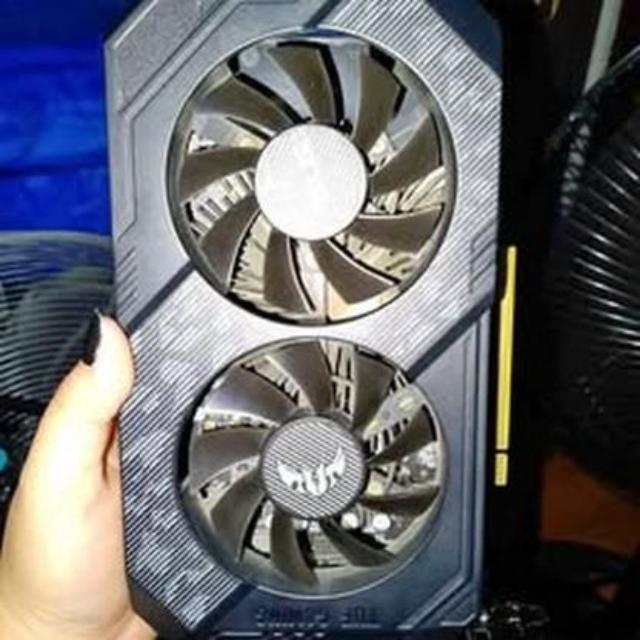GPU: (97, 0, 523, 640)
